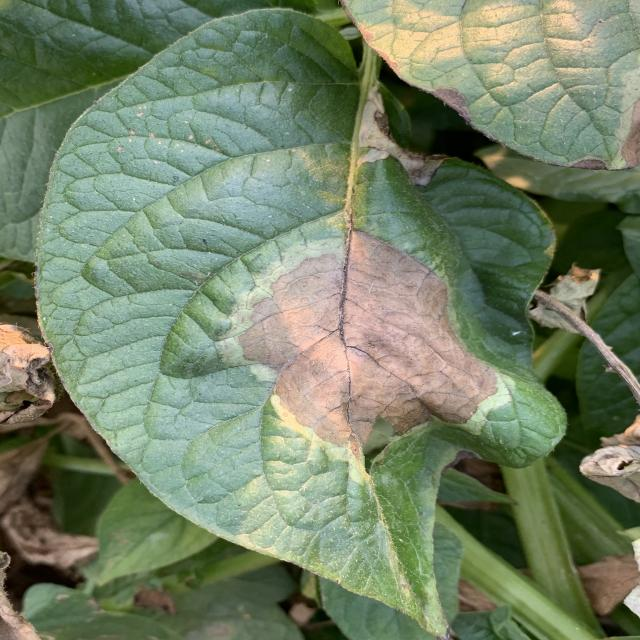lateblight: (238, 230, 498, 445), (580, 99, 640, 169), (562, 142, 632, 170), (422, 88, 472, 124)
